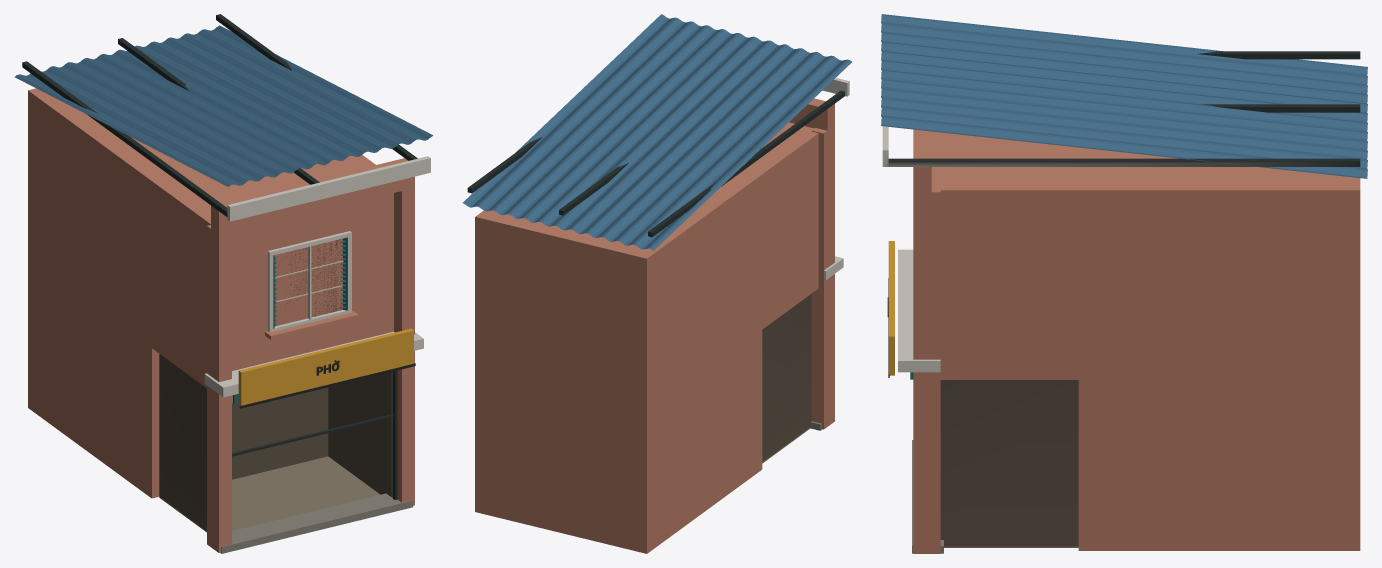
The model's file is nha_E.glb.
3 views of the same model, side by side, from view 1: azimuth 30°, elevation 25°; view 2: azimuth 150°, elevation 25°; view 3: azimuth 270°, elevation 25° (orthographic). The views are drawn at different scales.
Visible parts, largest first — view 1: nha_E; view 2: nha_E; view 3: nha_E.
Part boxes in pixels (x1=…): nha_E: x1=14, y1=14, x2=433, y2=553; nha_E: x1=463, y1=14, x2=851, y2=553; nha_E: x1=881, y1=14, x2=1367, y2=553.
Size of the model in its own units: 4.4 by 7.78 by 7.95.
